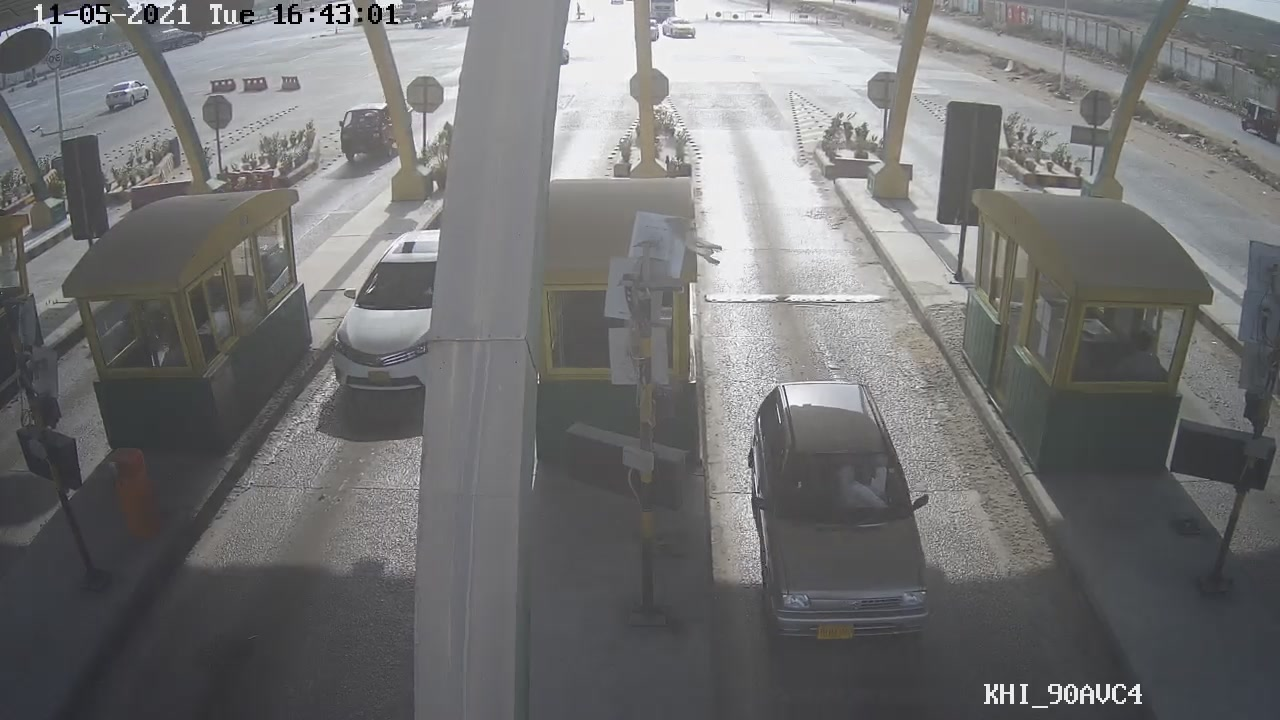F1: (744, 369, 938, 647)
